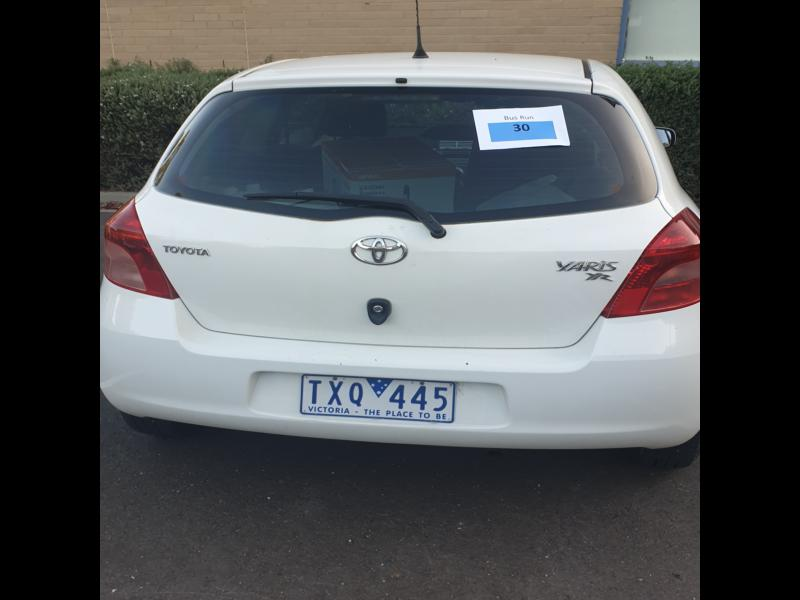BusRun: (489, 120, 555, 141)
PlateNo: (300, 374, 453, 423)
